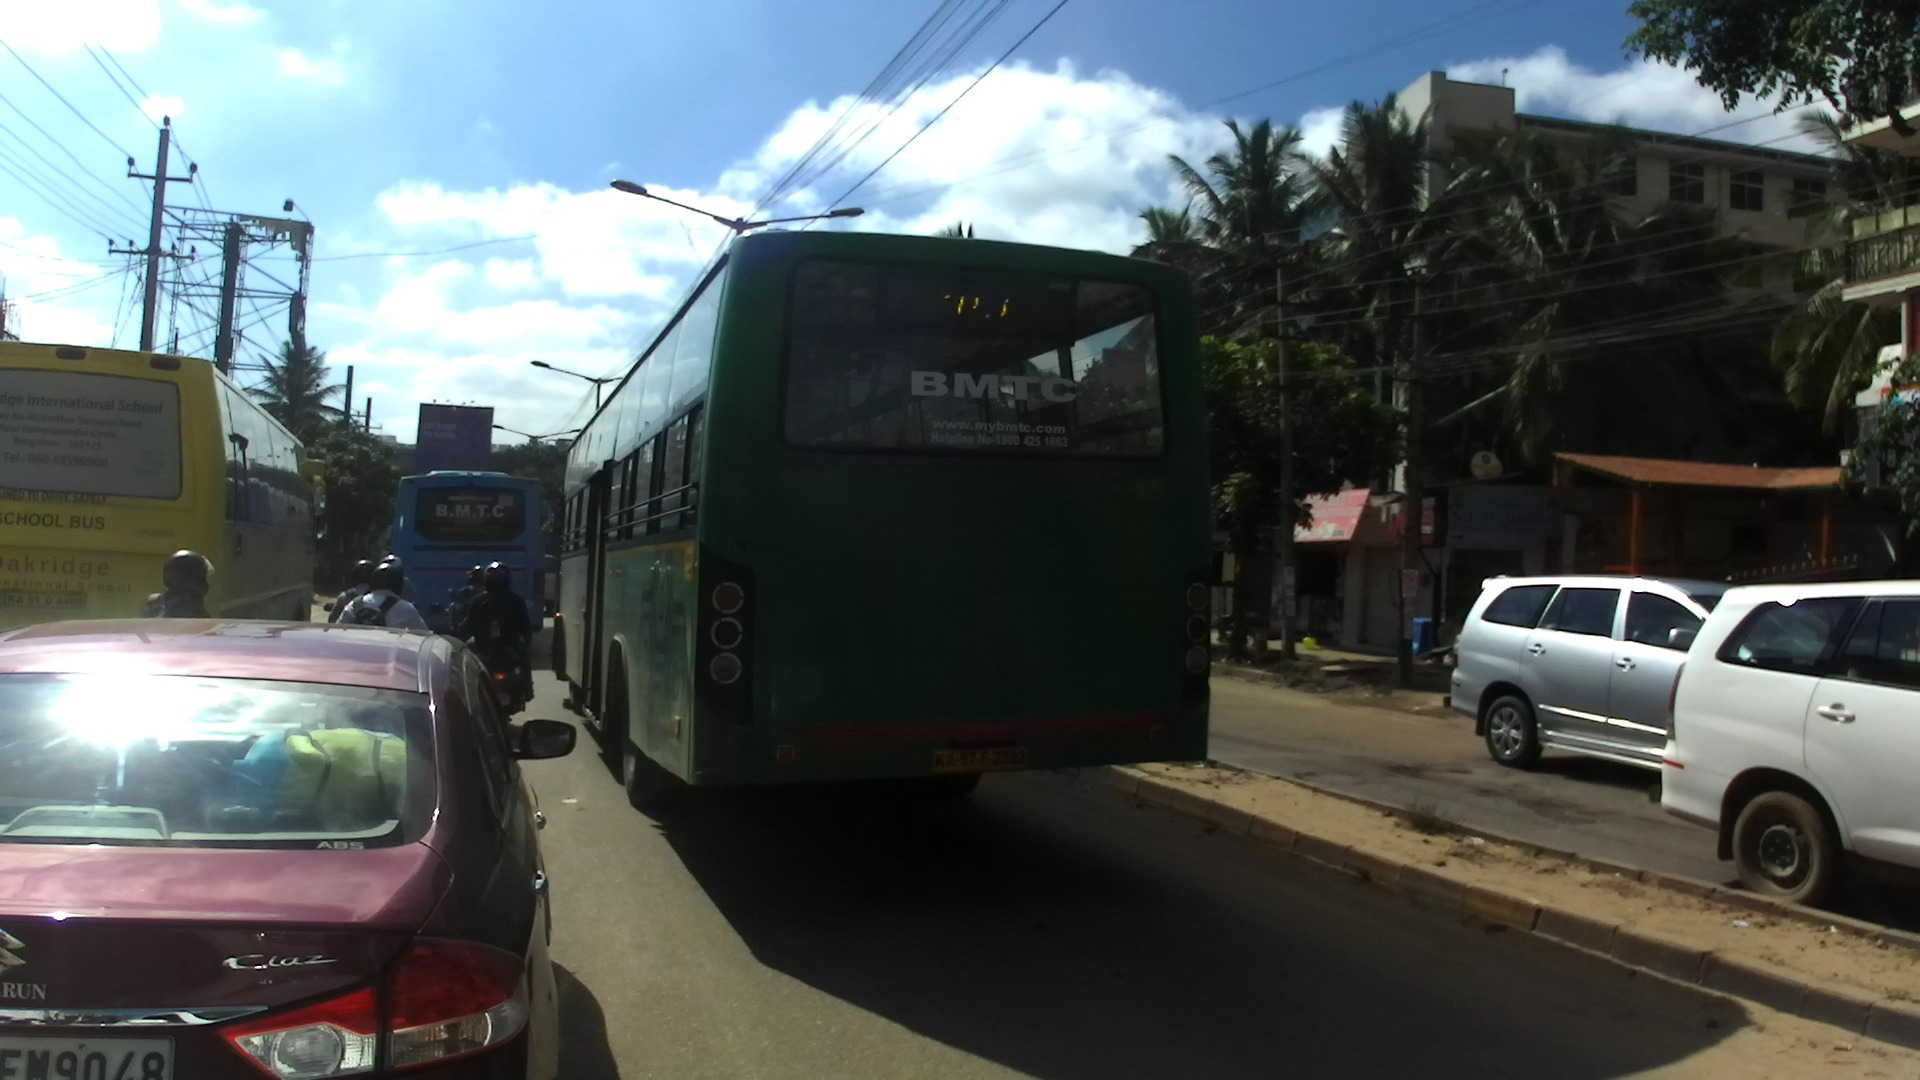bus: (547, 226, 1215, 811), (1, 339, 327, 627), (396, 467, 545, 638)
car: (1, 613, 582, 1080), (1651, 581, 1912, 910), (1451, 570, 1736, 771), (545, 553, 557, 617)
motorcycle: (459, 608, 534, 715), (443, 586, 463, 638), (420, 597, 441, 631), (323, 601, 333, 614)
rider: (456, 564, 532, 705), (333, 561, 431, 628), (141, 548, 216, 617), (328, 556, 374, 626), (445, 564, 486, 628), (382, 553, 419, 610)
